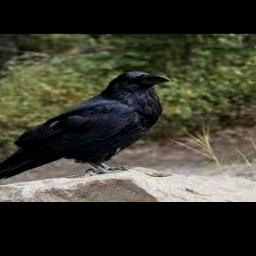Crow: (0, 70, 173, 190)
